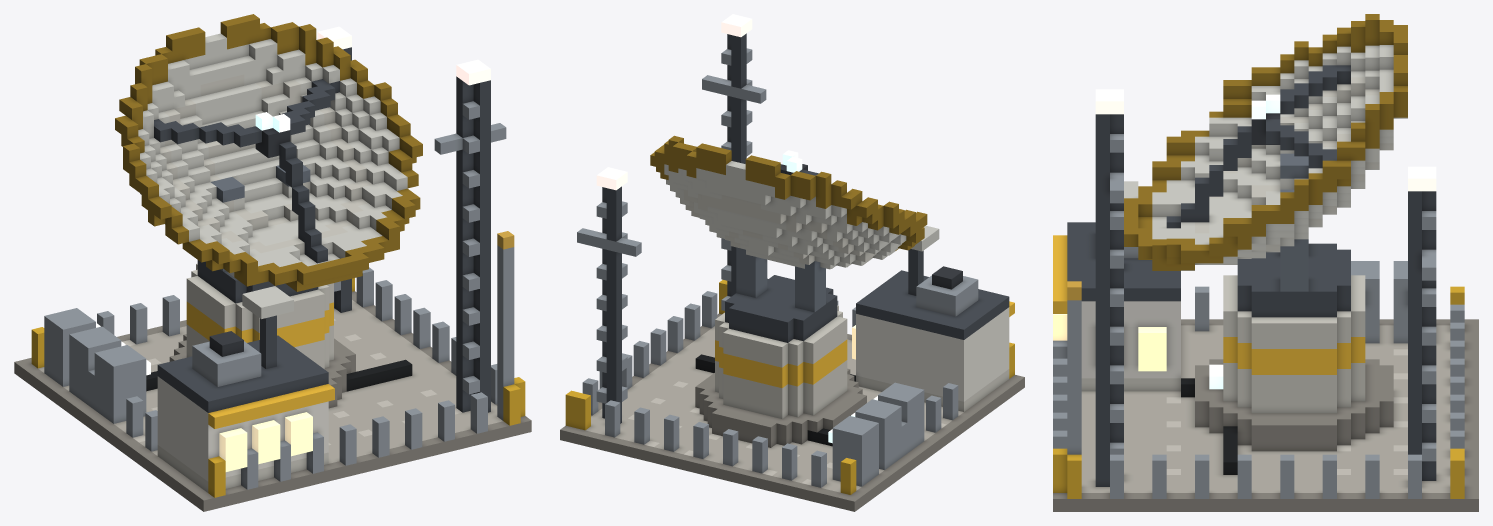
The model's file is cm_uplink_2.glb.
The picture shows the model from 3 angles, left to right: view 1: azimuth 30°, elevation 25°; view 2: azimuth 150°, elevation 25°; view 3: azimuth 270°, elevation 25°; orthographic projection. The views are drawn at different scales.
Visible parts, largest first — view 1: cm_uplink_2_body; view 2: cm_uplink_2_body; view 3: cm_uplink_2_body.
Part boxes in pixels (box(x1,y1,x2,y2)): cm_uplink_2_body: box(14, 14, 531, 511); cm_uplink_2_body: box(560, 14, 1024, 511); cm_uplink_2_body: box(1053, 14, 1478, 511).
Size of the model in its own units: 1.88 by 1.94 by 1.88.
1 material, 1 textured.
